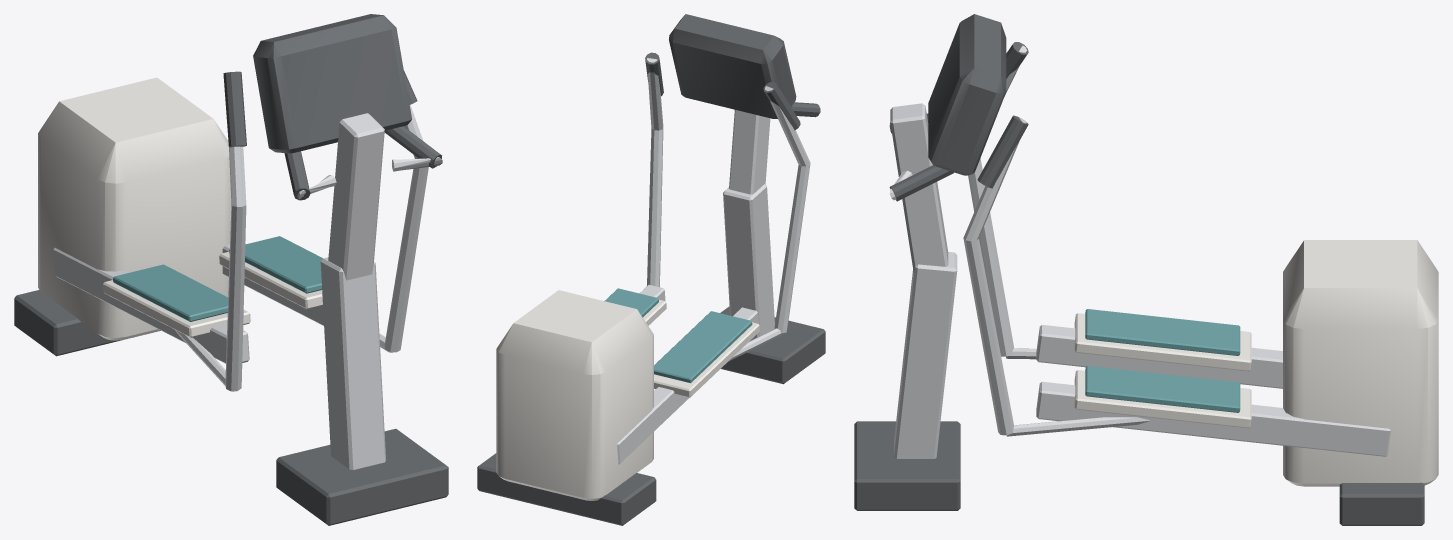
File: hotel-and-resort-operations-cross-trainer-830f3a87__25931.glb
3 views of the same model, side by side, from view 1: azimuth 30°, elevation 25°; view 2: azimuth 150°, elevation 25°; view 3: azimuth 270°, elevation 25° (orthographic). The views are drawn at different scales.
Parts seen in each view (by area): view 1: cross-trainer; view 2: cross-trainer; view 3: cross-trainer.
Boxes of the visible parts, bbox=[...] form: cross-trainer: bbox=[14, 14, 448, 525]; cross-trainer: bbox=[477, 14, 825, 525]; cross-trainer: bbox=[854, 14, 1438, 525].
Size of the model in its own units: 0.644 by 1.38 by 1.65.
